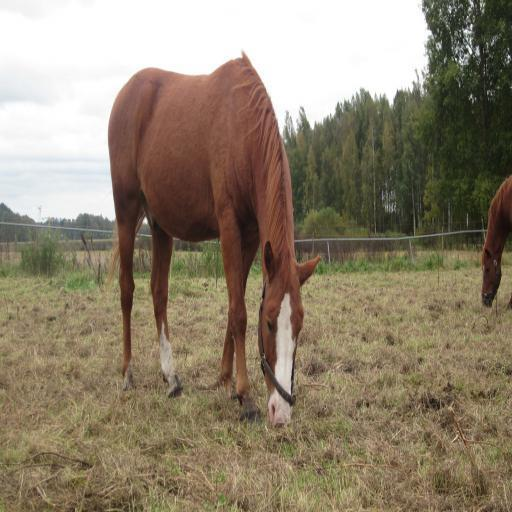horse: (98, 49, 322, 425), (481, 174, 512, 310)
